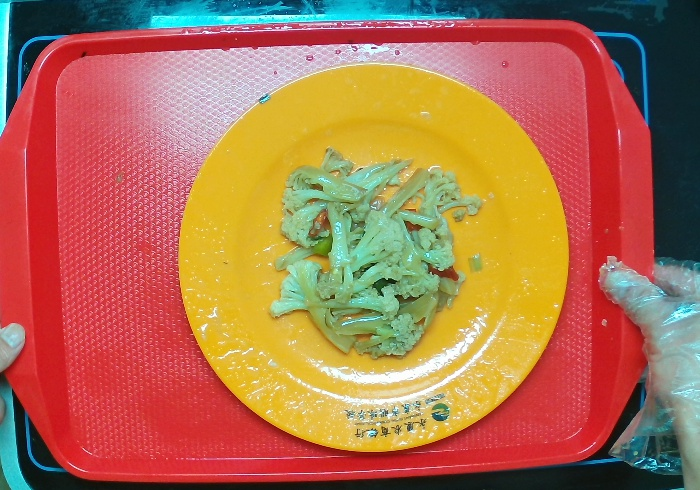YKMZ-Ju_Se_Mian_Pan: (169, 53, 578, 461)
